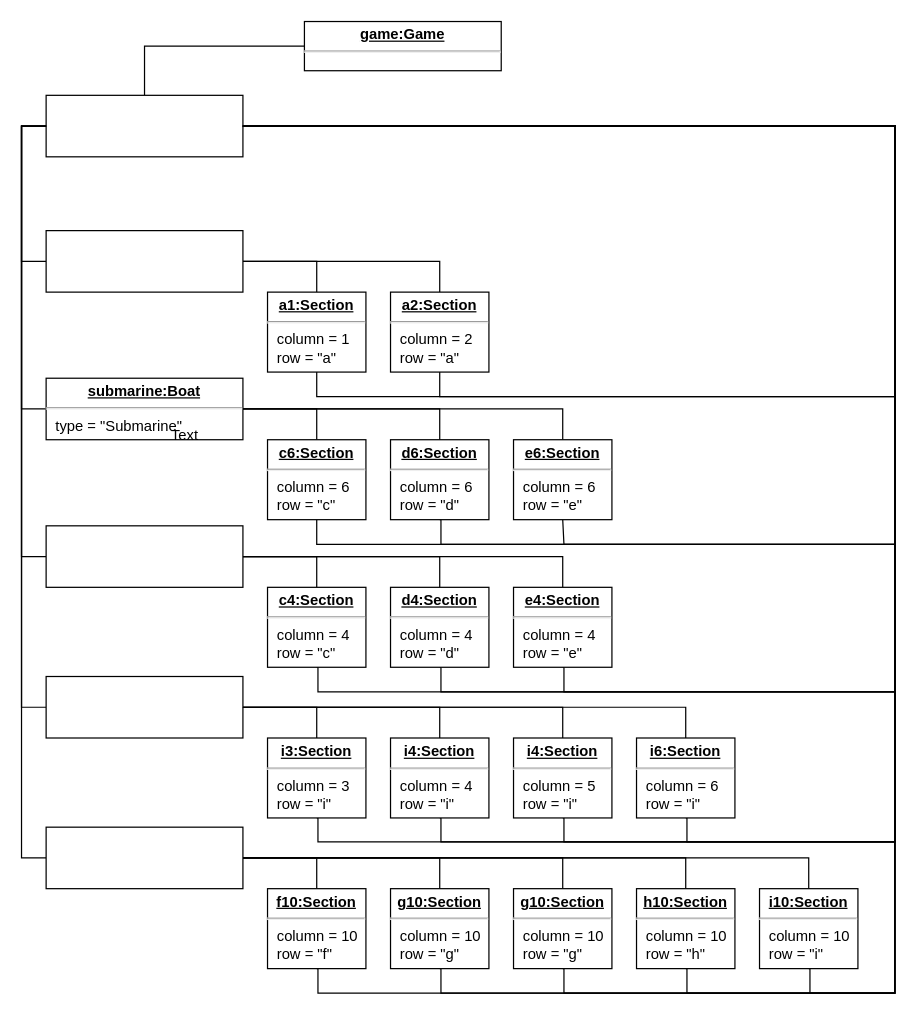
Some shapes in this 918 by 1016 pixel diagram are drawn without their labels. The centre of each missing label's shape, as x and y in pixels:
battleship:Boat type = "Battleship": point 144,706
carrier:Boat type = "Aircraft Carrier": point 144,857
destroyer:Boat type = "Destroyer": point 144,556
patrolBoat:Boat type = "Patrol Boat": point 144,260
ruben:Player name = Ruben: point 144,125
